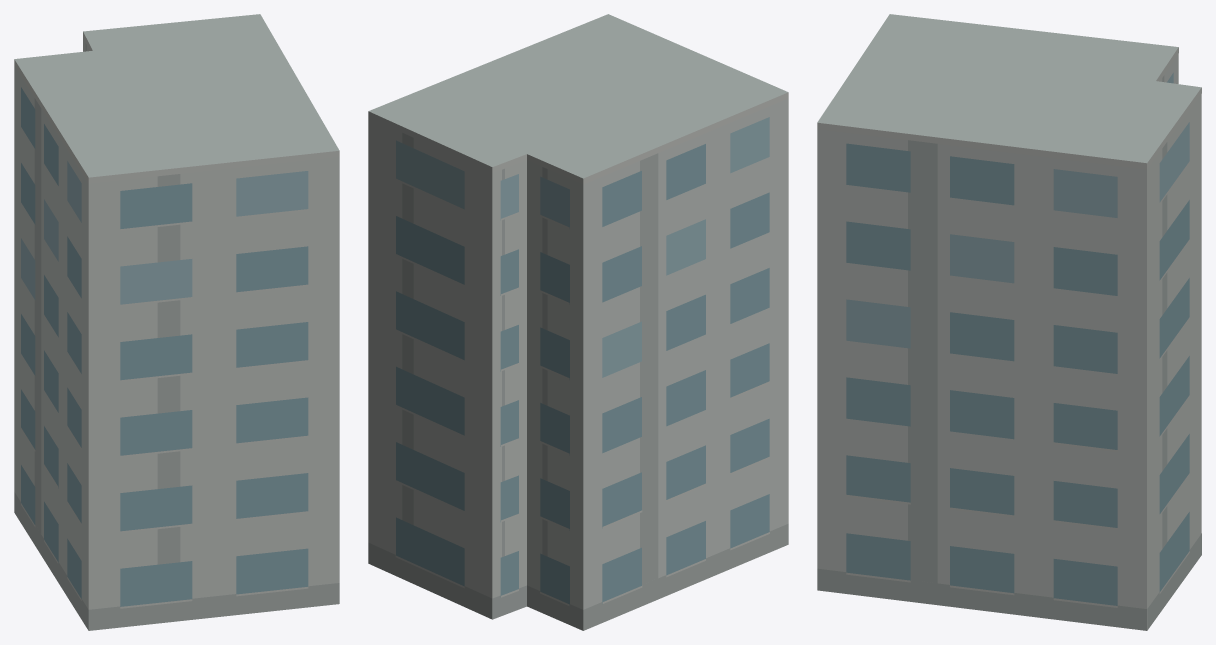
Rendered from survey-upis-32820644.glb.
The picture shows the model from 3 angles, left to right: view 1: azimuth 30°, elevation 25°; view 2: azimuth 150°, elevation 25°; view 3: azimuth 270°, elevation 25°; orthographic projection. The views are drawn at different scales.
Parts seen in each view (by area): view 1: survey-upis-32820644.tmp; view 2: survey-upis-32820644.tmp; view 3: survey-upis-32820644.tmp.
Boxes of the visible parts, x1,y1,x2,y2 form: survey-upis-32820644.tmp: (14,14,339,630); survey-upis-32820644.tmp: (368,14,788,630); survey-upis-32820644.tmp: (817,14,1201,630).
Size of the model in its own units: 12.39 by 18.1 by 13.5.
